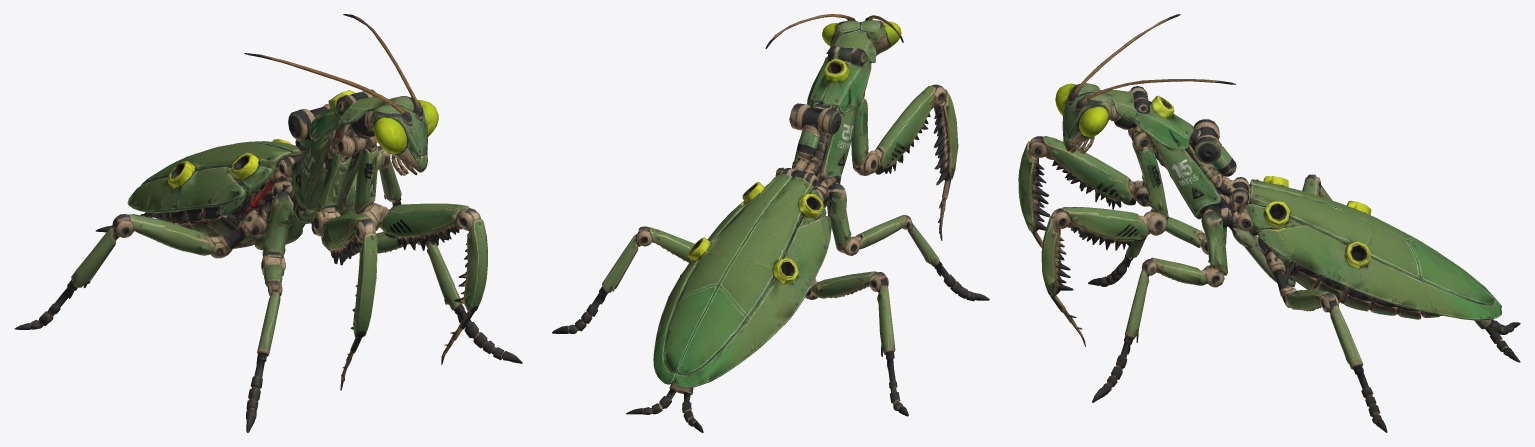
Rendered from praying-mantis.glb.
3 renders of one model, left to right at view 1: azimuth 30°, elevation 25°; view 2: azimuth 150°, elevation 25°; view 3: azimuth 270°, elevation 25°, orthographic. The views are drawn at different scales.
Bounding box in the file's own units: 2.86 × 2.18 × 3.4.
1 material, 1 textured.
